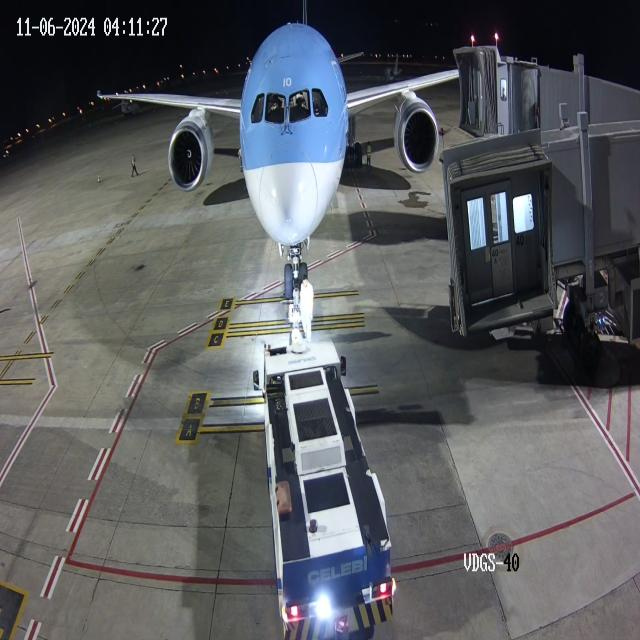bridge: (488, 25, 542, 148)
plane: (96, 12, 444, 304)
window: (249, 87, 334, 130)
